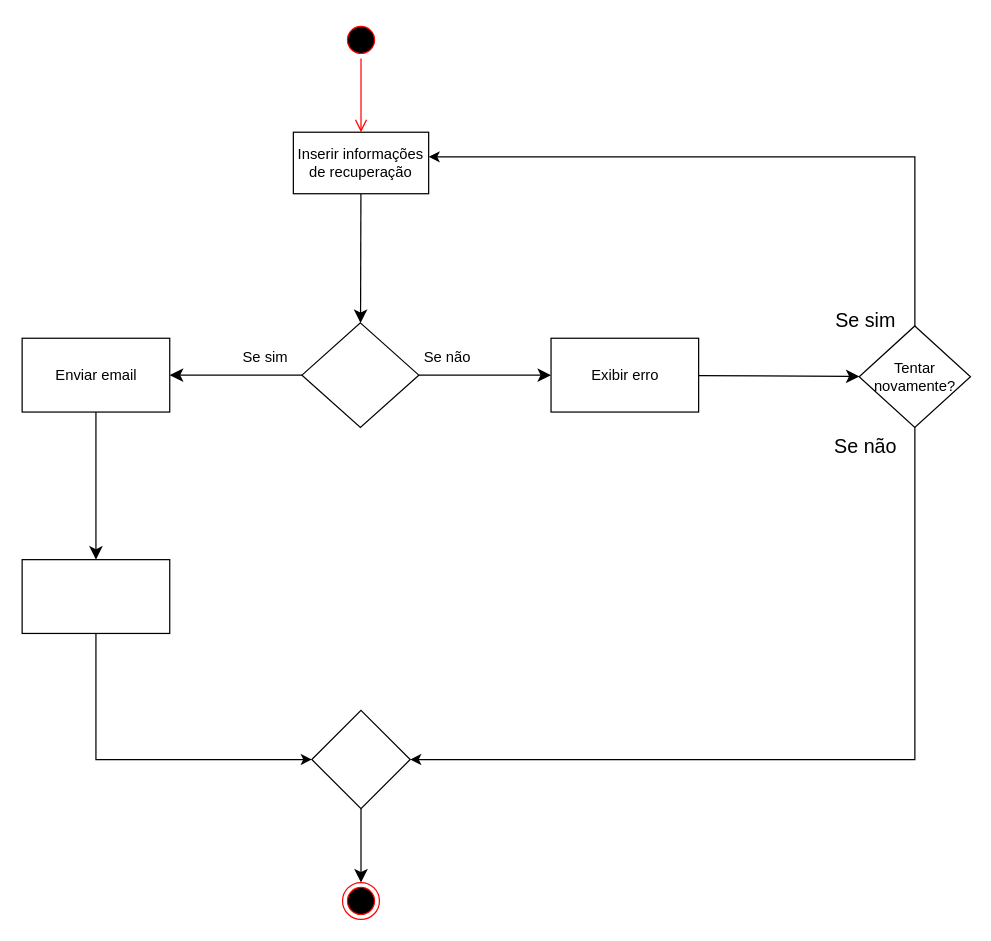
The diagram is 991 pixels wide and 941 high, and some of its shapes have lost their labels. Each missing label, with the centre of its shape:
"Informações validas?" goes at (360,374).
"Recuperar senha" goes at (95,595).
